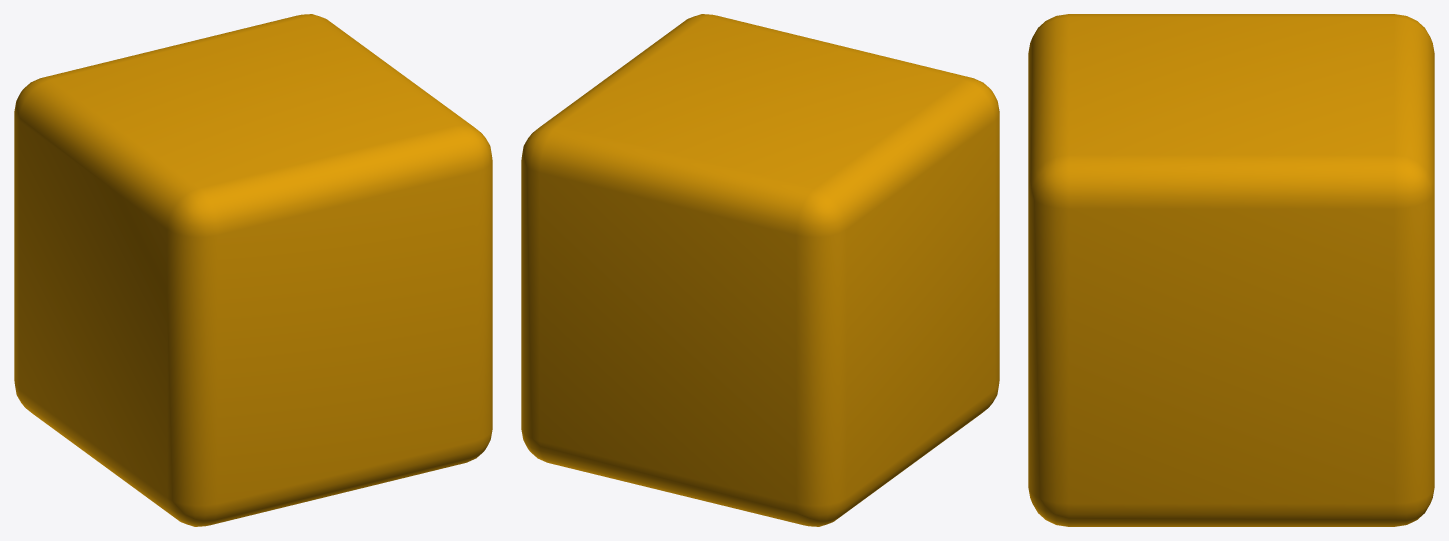
File: Player.fbx
3 renders of one model, left to right at view 1: azimuth 30°, elevation 25°; view 2: azimuth 150°, elevation 25°; view 3: azimuth 270°, elevation 25°, orthographic. The views are drawn at different scales.
Visible parts, largest first — view 1: Cube; view 2: Cube; view 3: Cube.
Boxes of the visible parts, <box> form: Cube: <box>14,14,492,526</box>; Cube: <box>521,14,999,526</box>; Cube: <box>1028,14,1434,526</box>.
Size of the model in its own units: 100 by 100 by 100.
